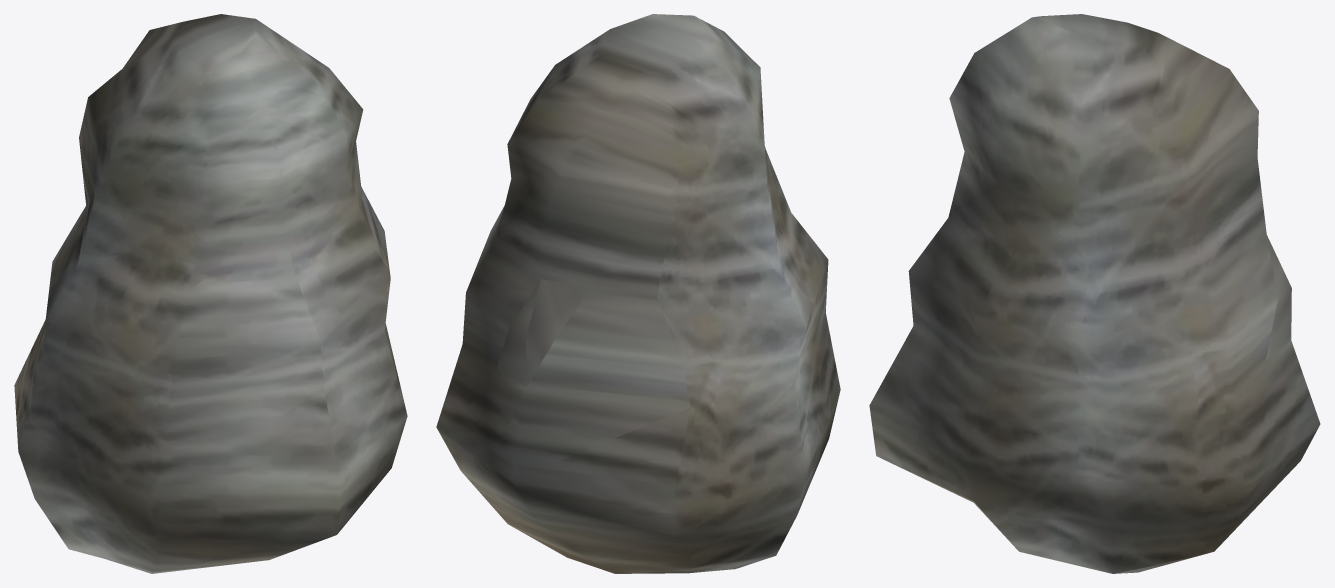
Rendered from ITMI_GS_SPIDERWEB.glb.
The picture shows the model from 3 angles, left to right: view 1: azimuth 30°, elevation 25°; view 2: azimuth 150°, elevation 25°; view 3: azimuth 270°, elevation 25°; orthographic projection. The views are drawn at different scales.
Visible parts, largest first — view 1: Mesh; view 2: Mesh; view 3: Mesh.
Boxes of the visible parts, bbox=[...] form: Mesh: bbox=[14, 14, 407, 573]; Mesh: bbox=[436, 14, 840, 573]; Mesh: bbox=[869, 14, 1320, 573].
Bounding box in the file's own units: 0.3215 × 0.4507 × 0.3504.
Materials: 1 (1 with a texture image).
